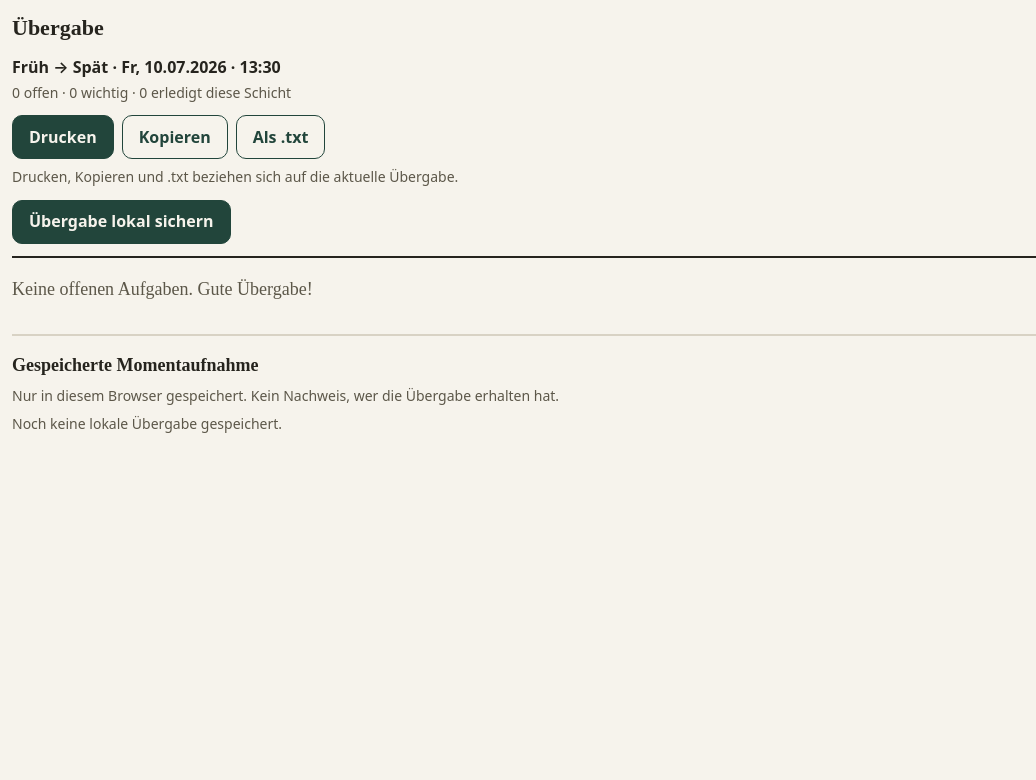
it: BriefView › allows an empty snapshot and labels replacement explicitly
The image size is (1036, 780).
Step 1. Click the button "Übergabe lokal sichern" → (121, 222), box [12,200,230,244]
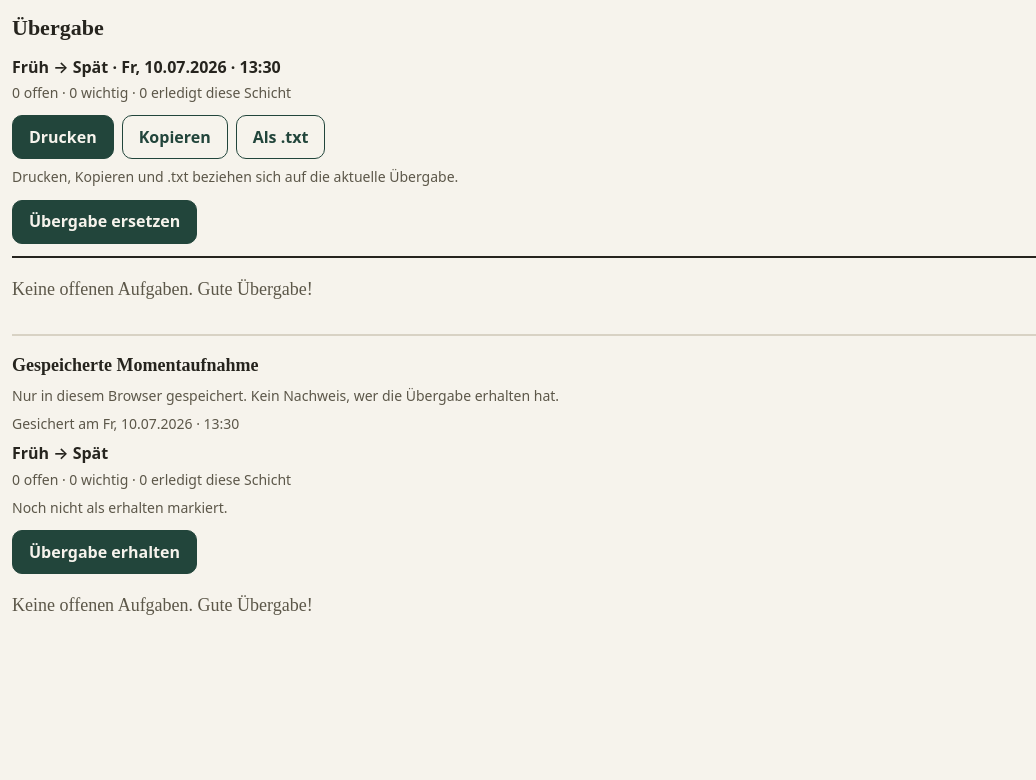
Check: the text "Keine offenen Aufgaben. Gute Übergabe!" below "Noch nicht als erhalten markiert." is shown, box [12,595,313,615]
Check: the button "Übergabe ersetzen" is shown, box [12,200,197,244]
